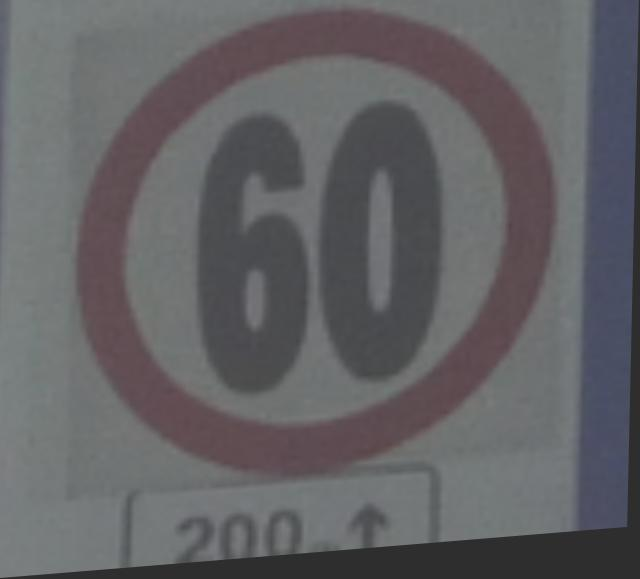limit60: (55, 0, 572, 504)
